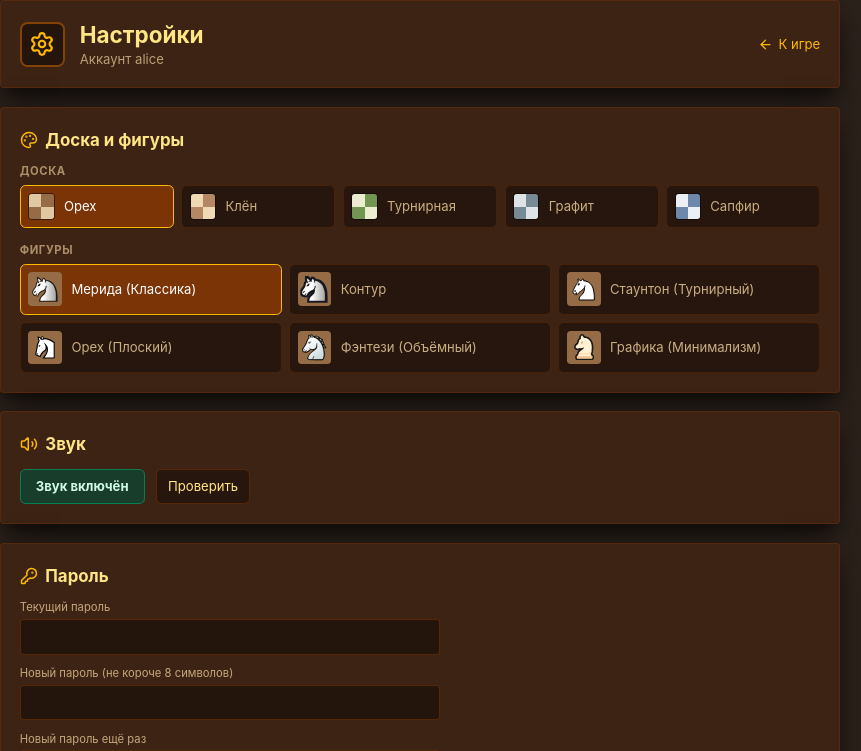
Settings: оформление и звук › переключатель звука меняет состояние и блокирует проверку при выключенном звуке
Click the switch at (82, 486), box [20,468,145,504]
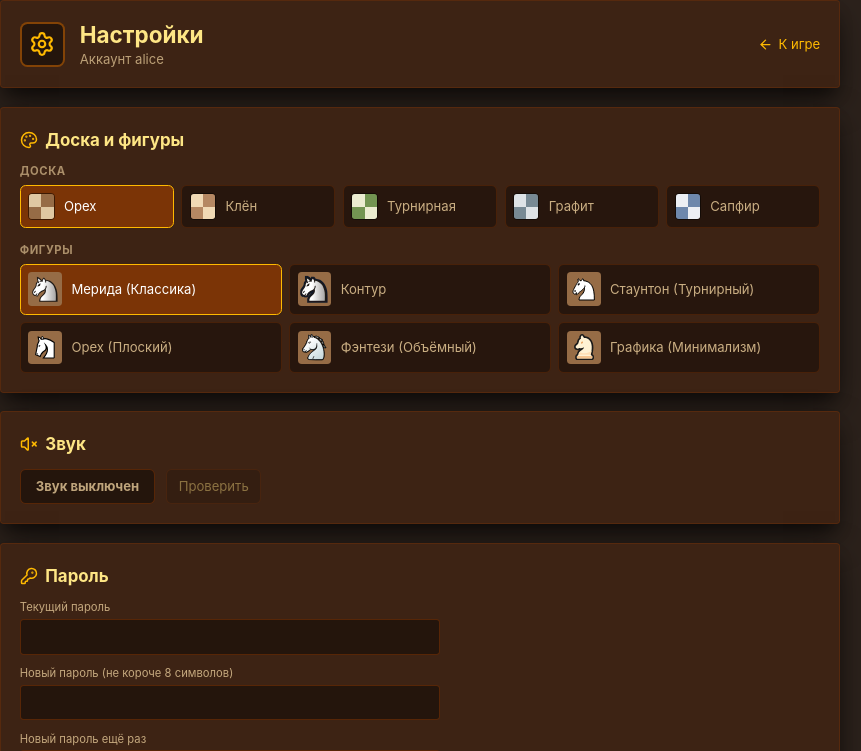
Expected: the button "Проверить" is disabled, [166,468,261,504]
